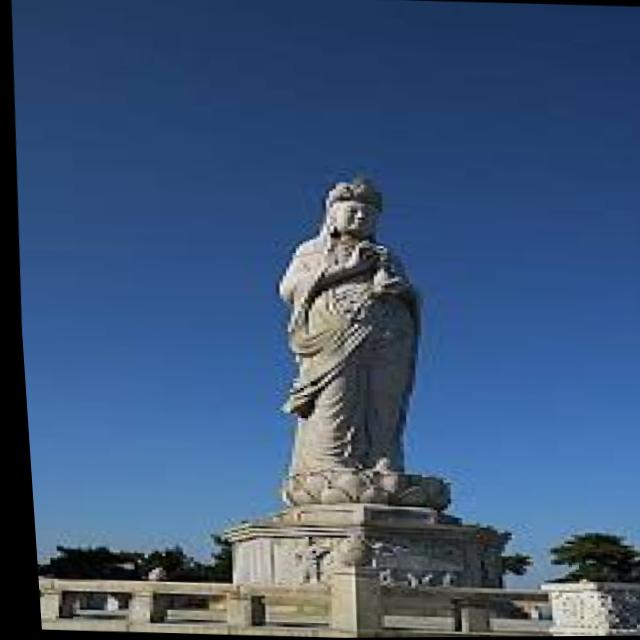Guan Yin: (264, 172, 442, 496)
